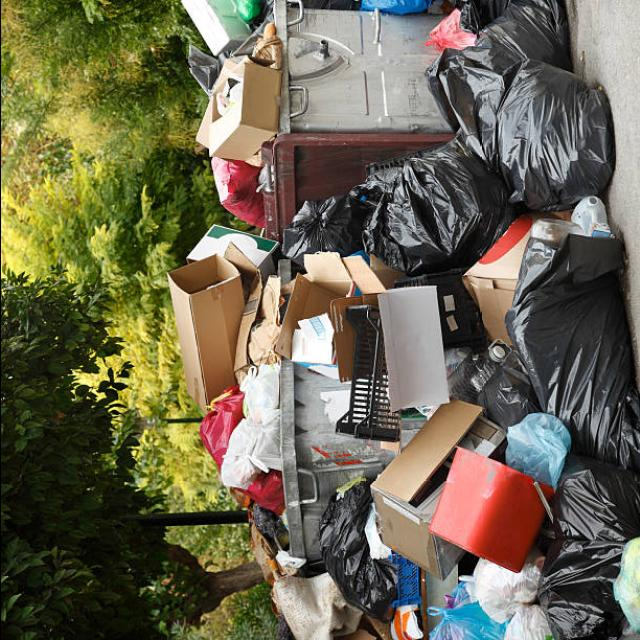garbage: (178, 1, 640, 640)
